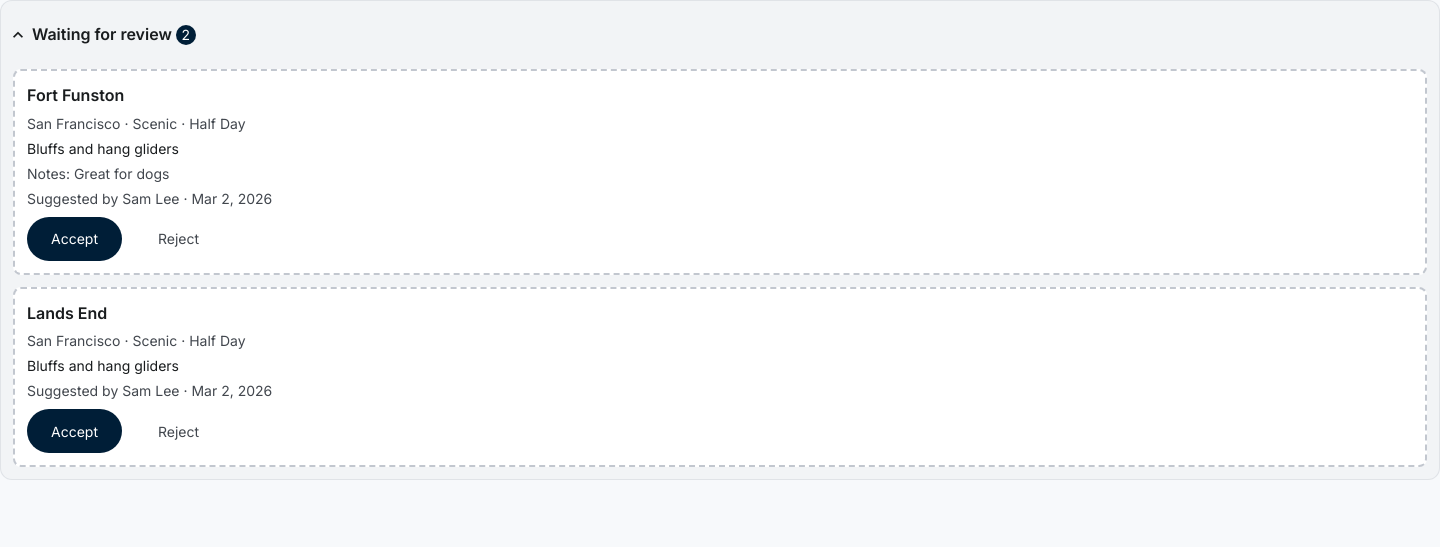
Test case: PendingSuggestions (#73) › falls back to a plain message for a non-Error failure
Click the button named "Accept Fort Funston" at x=74, y=239, box [27, 217, 122, 261]
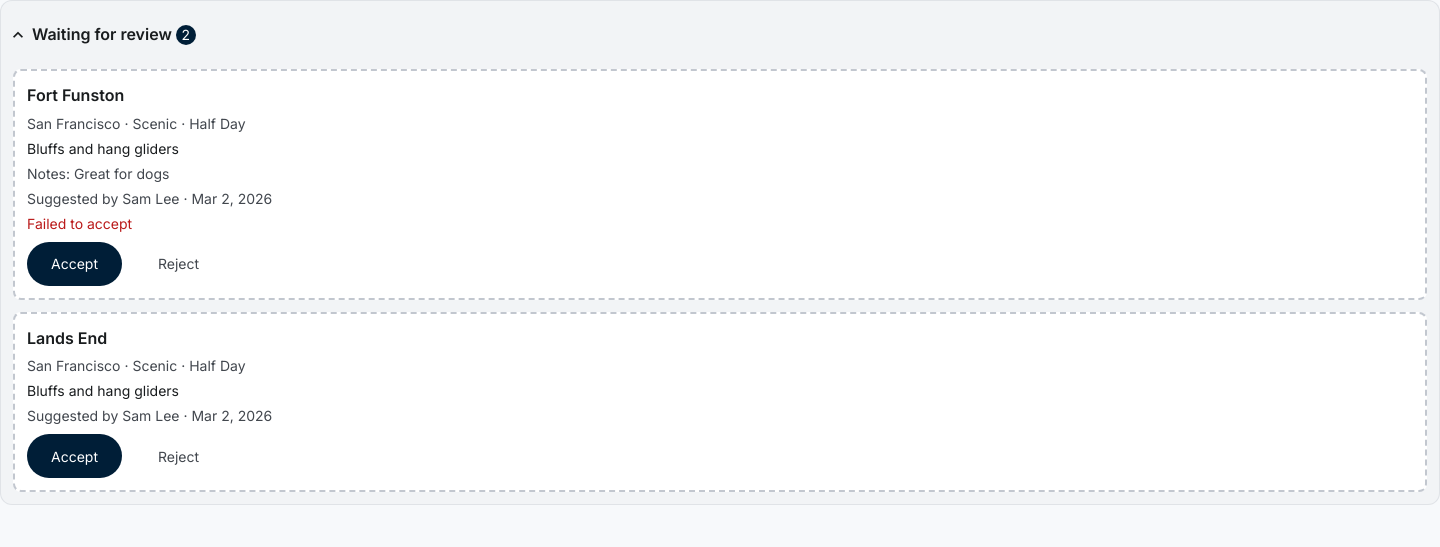
Now the text "Failed to accept" is shown, box [27, 215, 132, 232]
Click the button named "Reject Lands End" at x=179, y=456, box [134, 434, 223, 478]
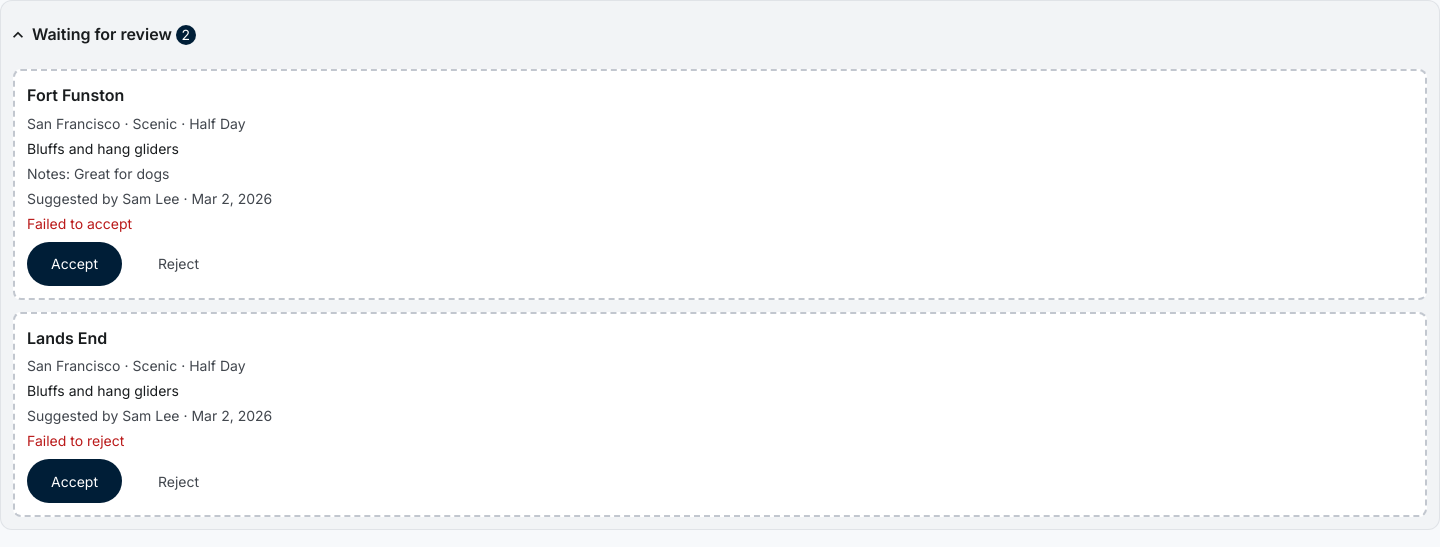
Now the text "Failed to reject" is shown, box [27, 432, 124, 449]
